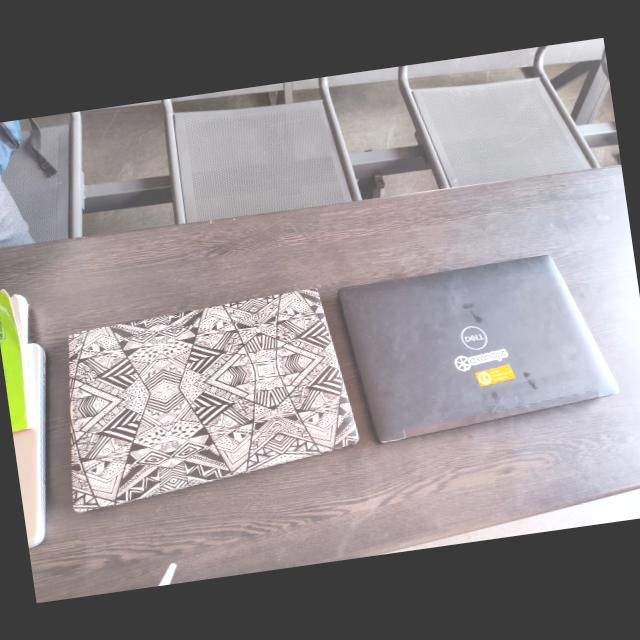laptop: (48, 276, 355, 516), (338, 239, 626, 442)
